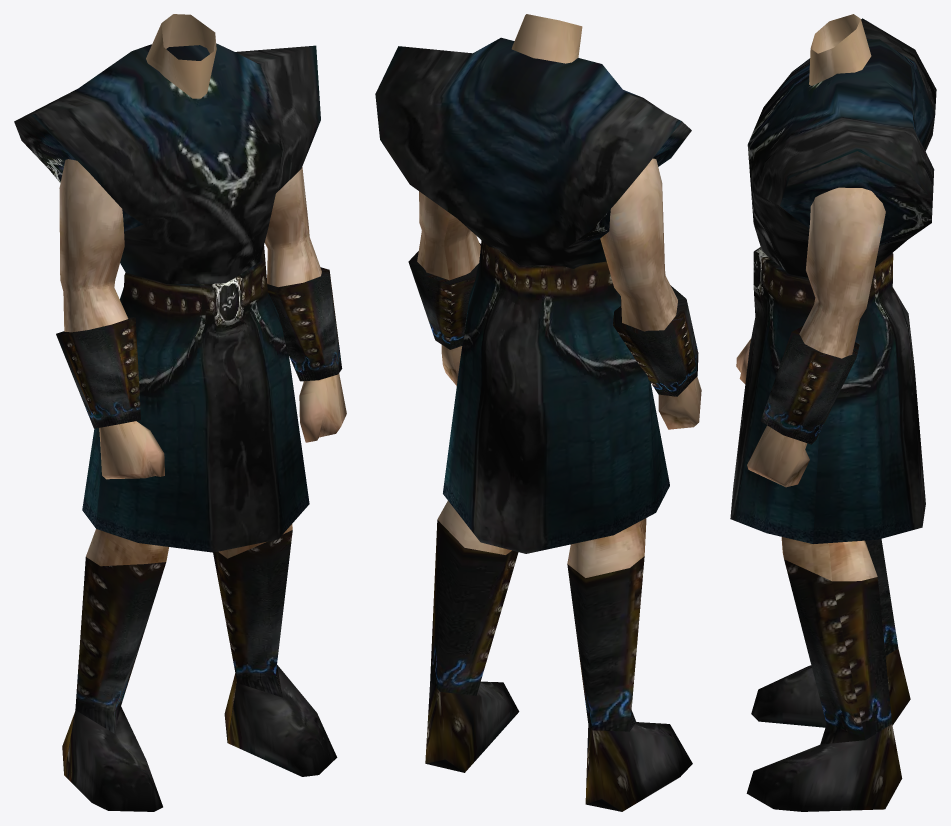
The model's file is NWODA1_WINTER.glb.
The picture shows the model from 3 angles, left to right: view 1: azimuth 30°, elevation 25°; view 2: azimuth 150°, elevation 25°; view 3: azimuth 270°, elevation 25°; orthographic projection. The views are drawn at different scales.
Parts seen in each view (by area): view 1: NWODA1_WINTER; view 2: NWODA1_WINTER; view 3: NWODA1_WINTER.
Boxes of the visible parts, <box> form: NWODA1_WINTER: <box>14,14,346,811</box>; NWODA1_WINTER: <box>375,14,701,811</box>; NWODA1_WINTER: <box>730,14,936,811</box>.
Size of the model in its own units: 0.6657 by 1.7 by 0.427.
Materials: 2 (2 with a texture image).
